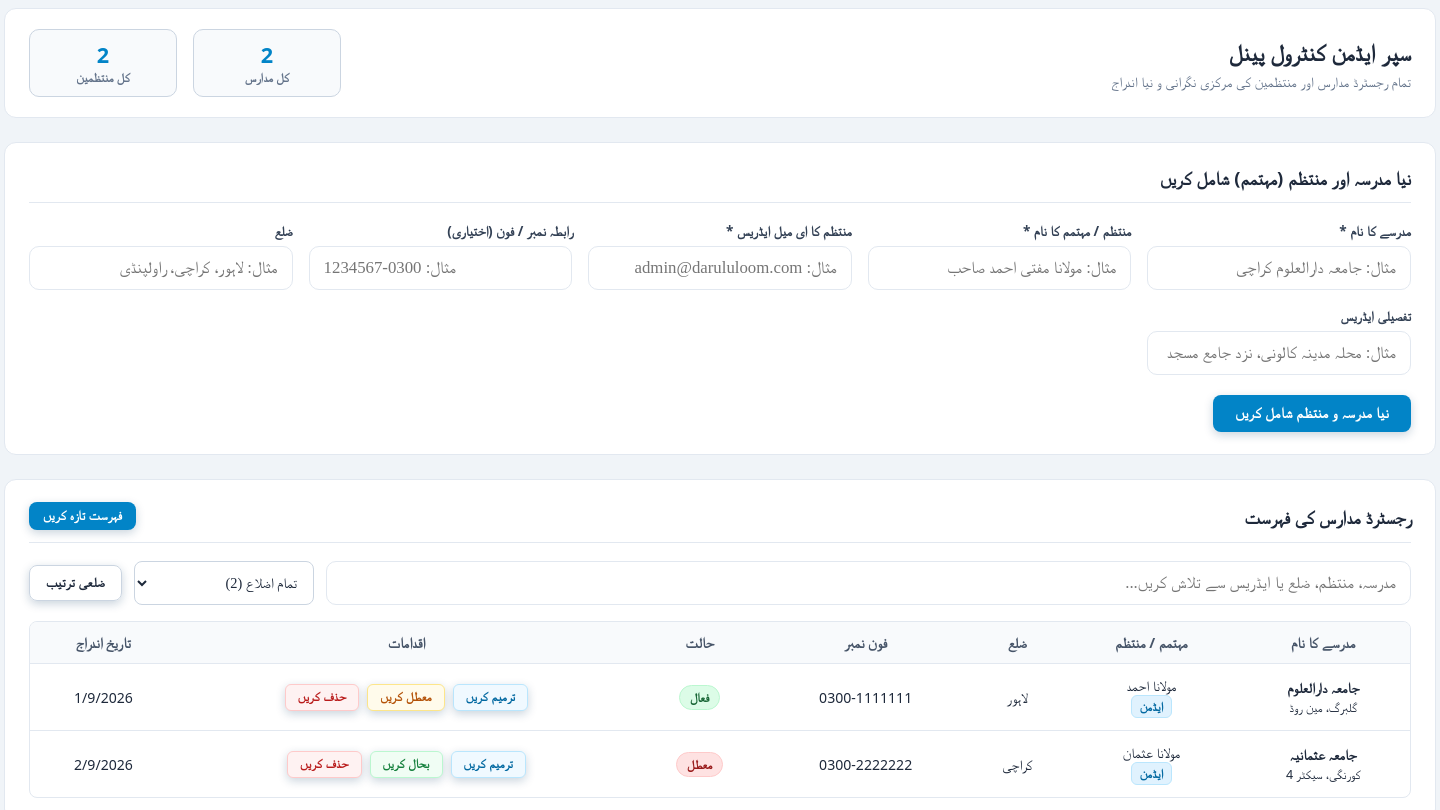
SuperAdmin Component › cancels deletion when cancel button is clicked
expect the text "جامعہ دارالعلوم" is shown: met, box 1287,678 -> 1359,697
Click the button "حذف کریں" in the row of "جامعہ دارالعلوم". click: (322, 697)
box: 285,684 -> 359,710
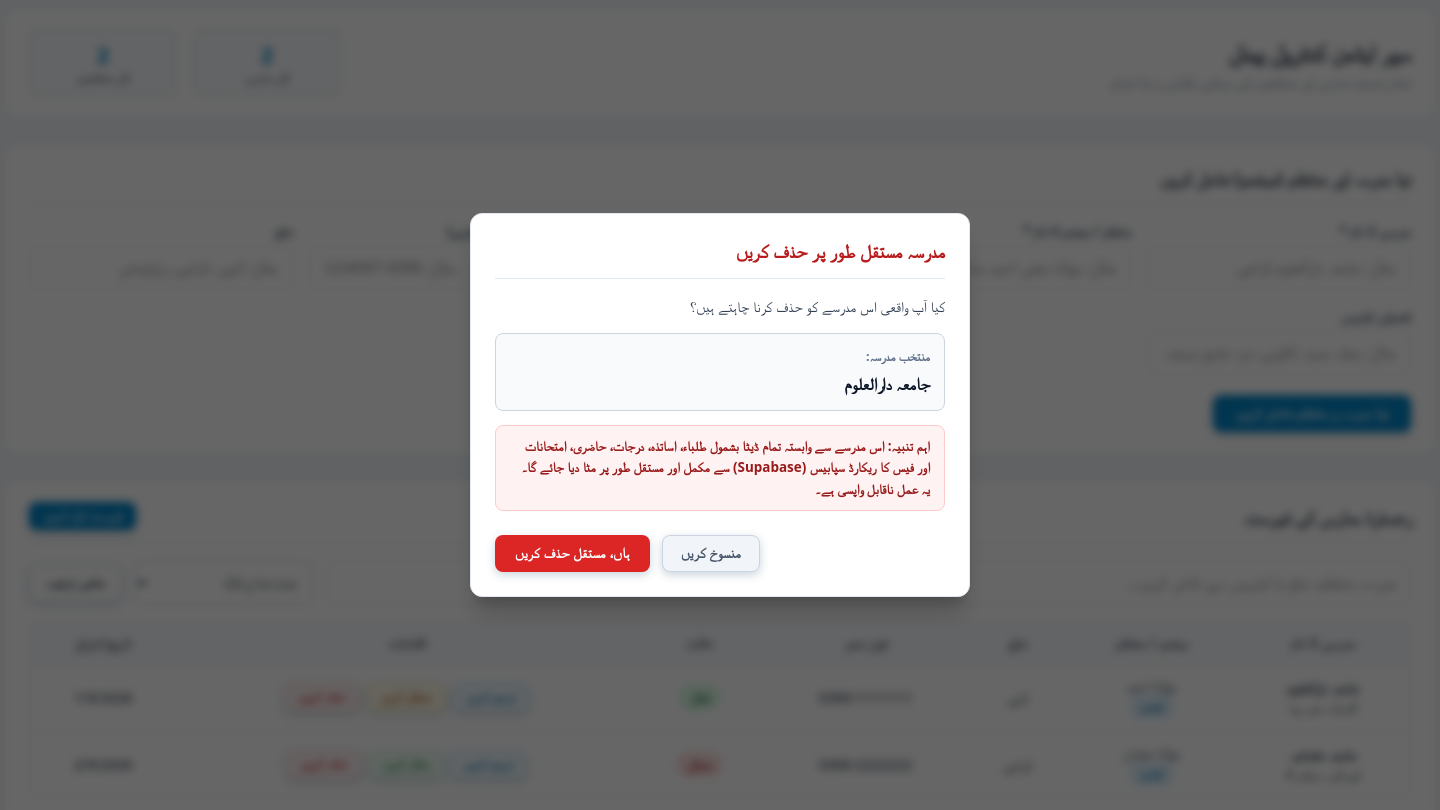
expect the heading "مدرسہ مستقل طور پر حذف کریں" is shown: met, box 736,238 -> 945,264
Click the button "منسوخ کریں". click: (711, 554)
box: 662,535 -> 760,572
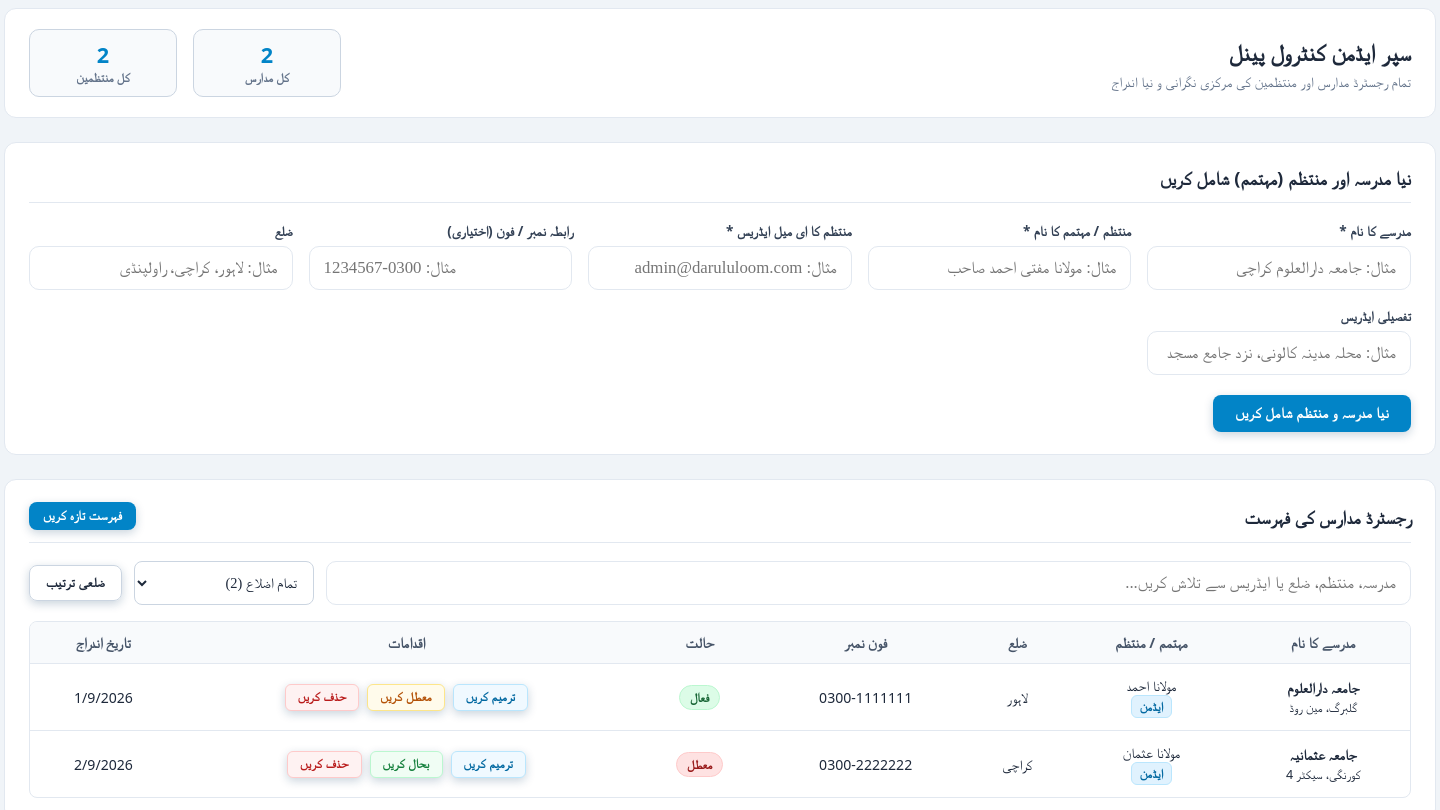
expect the heading "مدرسہ مستقل طور پر حذف کریں" is gone: met
